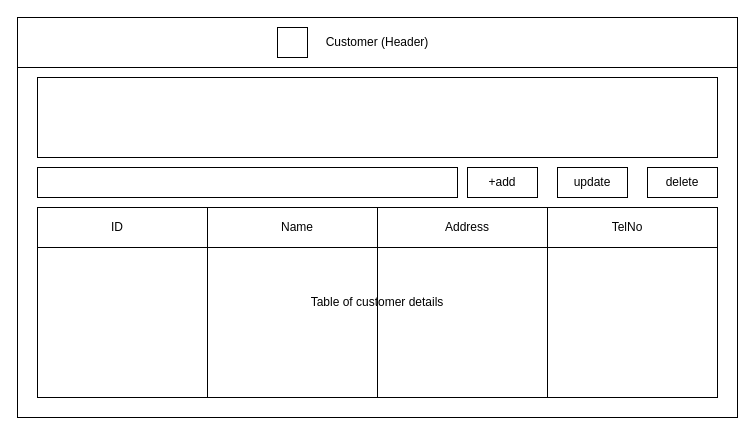
Some shapes in this 755 by 435 pixel diagram are drawn without their labels. Each missing label, with the centre of its shape:
img: the point at 292,42
Register details of the customer: the point at 377,117
Search Bar: the point at 247,182
